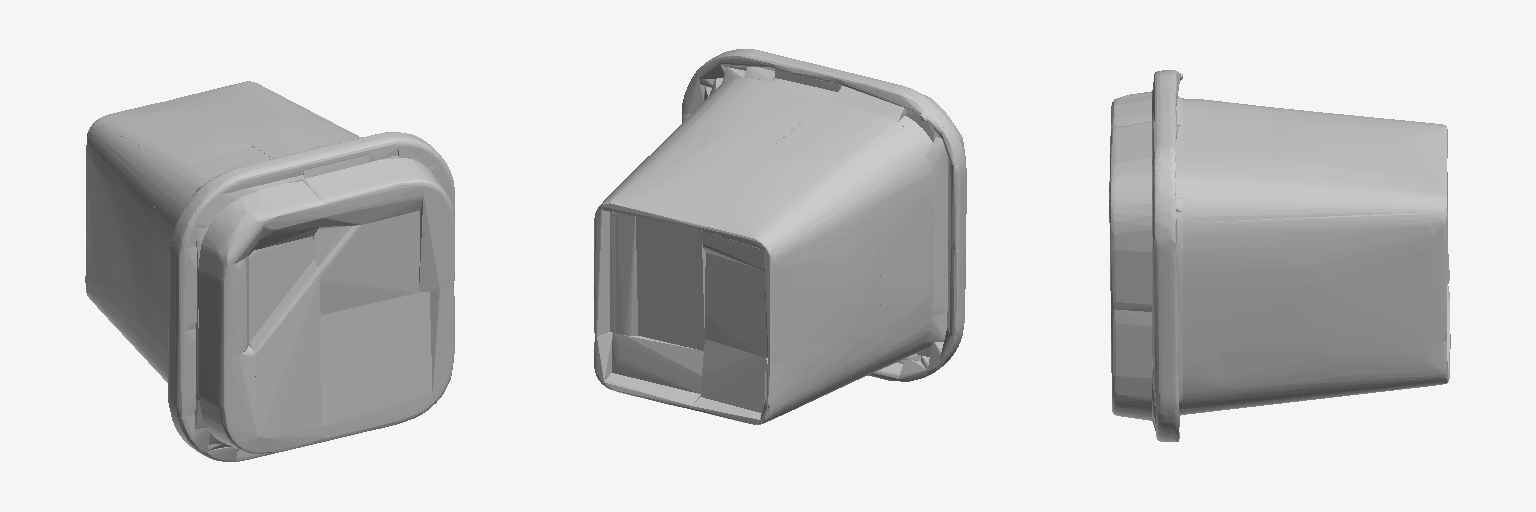
Rendered from coacd_collision.obj.
3 renders of one model, left to right at view 1: azimuth 30°, elevation 25°; view 2: azimuth 150°, elevation 25°; view 3: azimuth 270°, elevation 25°, orthographic.
Visible parts, largest first — view 1: geometry_10, geometry_28, geometry_22, geometry_38, geometry_1, geometry_16, geometry_0, geometry_36, geometry_18, geometry_15, geometry_4, geometry_25 (+14 smaller); view 2: geometry_28, geometry_0, geometry_1, geometry_36, geometry_11, geometry_23, geometry_43, geometry_19, geometry_21, geometry_39, geometry_26, geometry_50 (+16 smaller); view 3: geometry_50, geometry_1, geometry_9, geometry_4, geometry_36, geometry_7, geometry_34, geometry_0, geometry_6, geometry_16, geometry_30, geometry_2 (+6 smaller).
Part boxes in pixels (x1,y1,x2,y2): geometry_10: (321, 292, 432, 441); geometry_28: (86, 123, 180, 312); geometry_22: (249, 260, 321, 453); geometry_38: (315, 211, 419, 314); geometry_1: (165, 81, 360, 157); geometry_16: (303, 158, 423, 228); geometry_0: (151, 146, 271, 382); geometry_36: (94, 102, 250, 167); geometry_18: (199, 345, 257, 453); geometry_15: (198, 253, 248, 357); geometry_4: (403, 158, 454, 291); geometry_25: (249, 236, 313, 341); geometry_28: (764, 163, 880, 365); geometry_0: (781, 101, 932, 377); geometry_1: (599, 83, 824, 227); geometry_36: (693, 140, 850, 249); geometry_11: (636, 216, 705, 350); geometry_23: (705, 253, 767, 357); geometry_43: (765, 308, 879, 407); geometry_19: (612, 333, 703, 393); geometry_21: (701, 339, 765, 412); geometry_39: (926, 137, 947, 316); geometry_26: (616, 212, 637, 335); geometry_50: (594, 207, 609, 335); geometry_50: (1183, 210, 1446, 353); geometry_1: (1183, 130, 1446, 222); geometry_9: (1221, 340, 1447, 409); geometry_4: (1109, 172, 1151, 311); geometry_36: (1272, 108, 1447, 157); geometry_7: (1111, 308, 1151, 420); geometry_34: (1152, 247, 1178, 374); geometry_0: (1183, 98, 1271, 135); geometry_6: (1183, 353, 1220, 414); geometry_16: (1109, 121, 1151, 183); geometry_30: (1153, 195, 1176, 252); geometry_2: (1111, 94, 1151, 129).
Size of the model in its own units: 118 by 117 by 125.